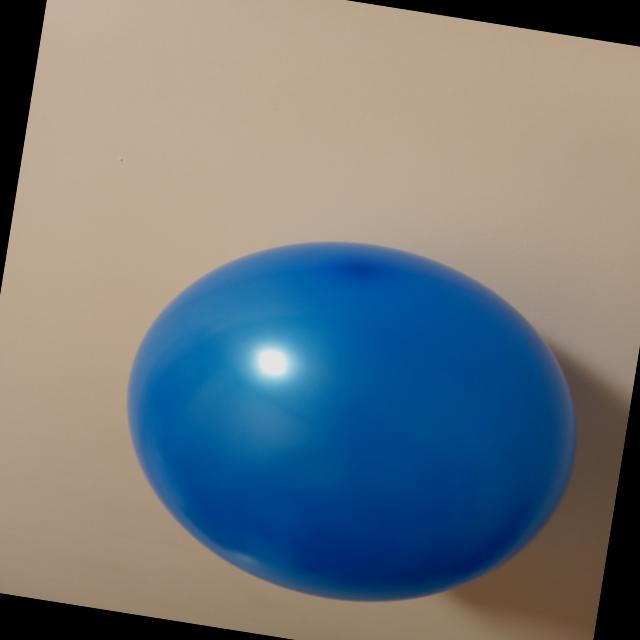balloon: (128, 243, 576, 601)
